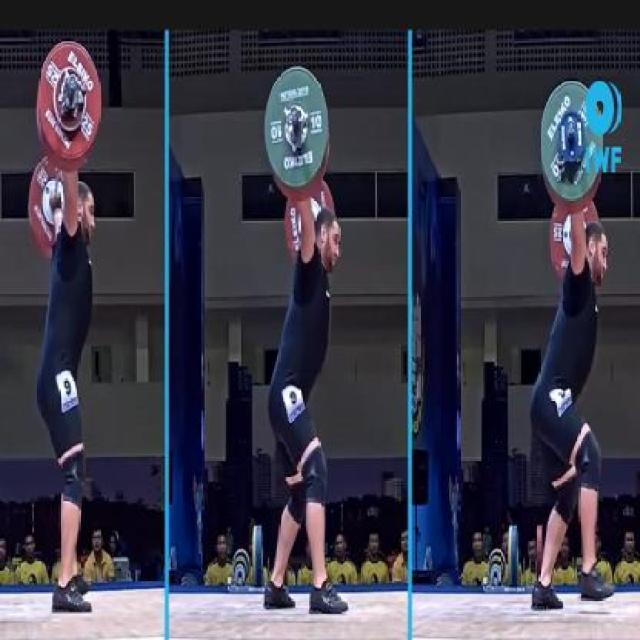barbell: (539, 65, 615, 219), (261, 60, 335, 213), (35, 33, 104, 166)
